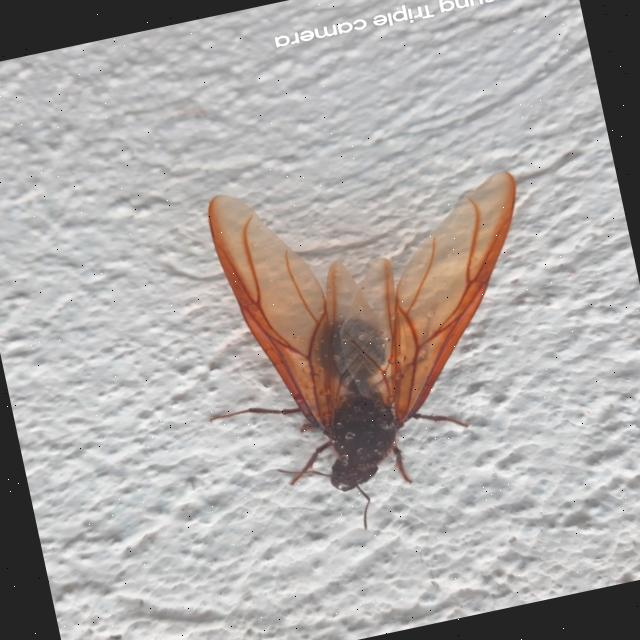Alive-Female-Alate: (162, 134, 581, 556)
